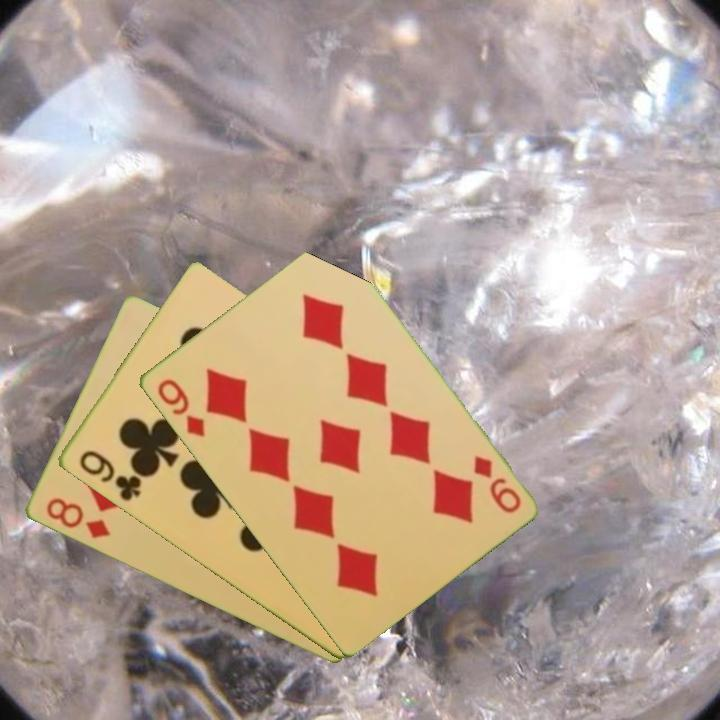8d: (42, 494, 113, 543)
9c: (75, 446, 144, 504)
9d: (153, 375, 208, 440), (469, 452, 524, 516)
